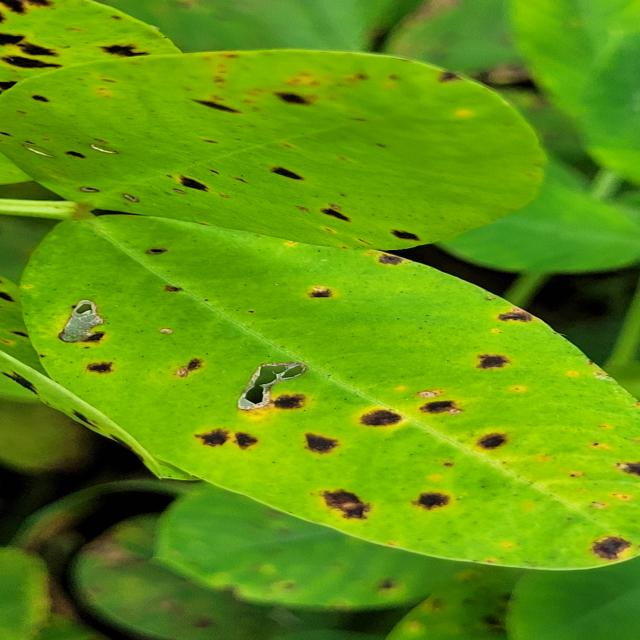Ground nut_tikka leaf spot: (31, 201, 640, 568), (12, 58, 546, 252), (0, 0, 192, 120)
